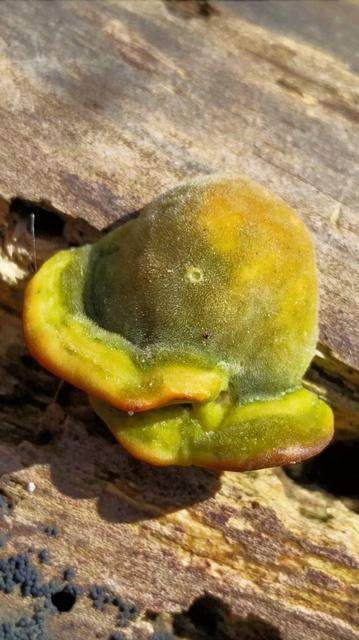poisonous_mushroom: (20, 171, 336, 472)
